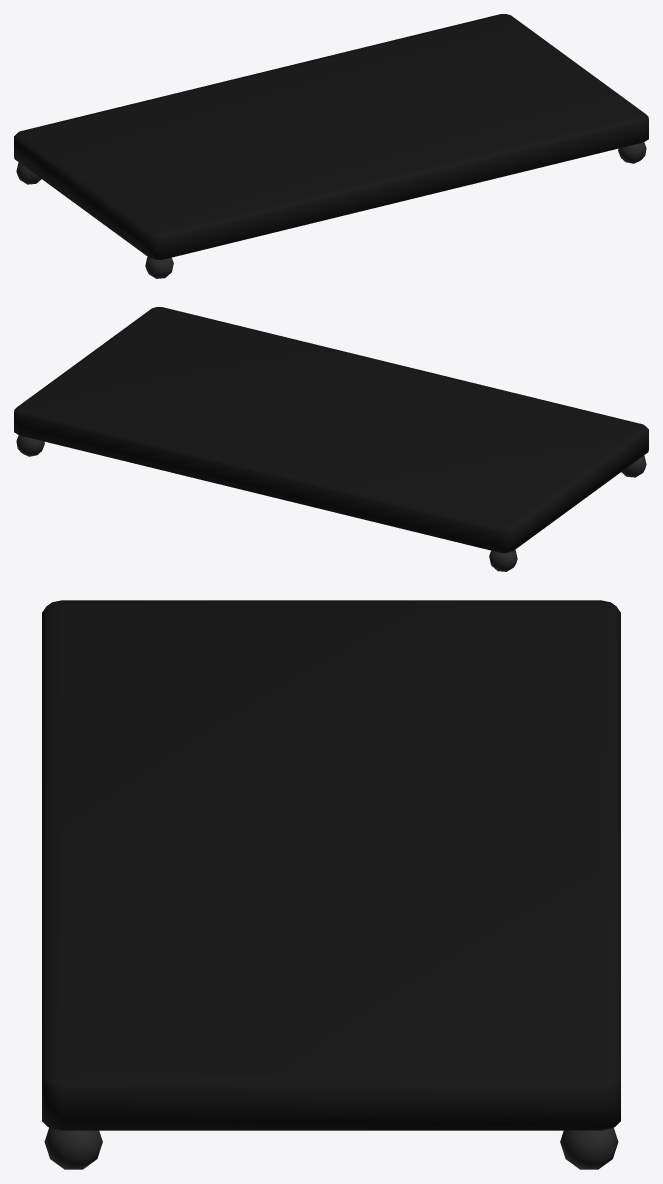
File: basePlate.fbx
The picture shows the model from 3 angles, top to bottom: view 1: azimuth 30°, elevation 25°; view 2: azimuth 150°, elevation 25°; view 3: azimuth 270°, elevation 25°; orthographic projection. The views are drawn at different scales.
Parts seen in each view (by area): view 1: BasePlate; view 2: BasePlate; view 3: BasePlate.
Boxes of the visible parts, bbox=[...] form: BasePlate: bbox=[14, 14, 648, 278]; BasePlate: bbox=[14, 307, 648, 571]; BasePlate: bbox=[42, 600, 620, 1169].
Size of the model in its own units: 19.92 by 1.88 by 10.
Materials: 1 (1 with a texture image).
